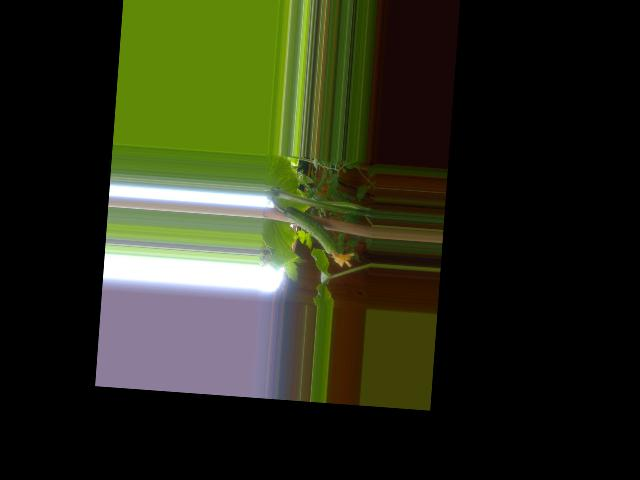cucumber: (280, 206, 357, 268)
